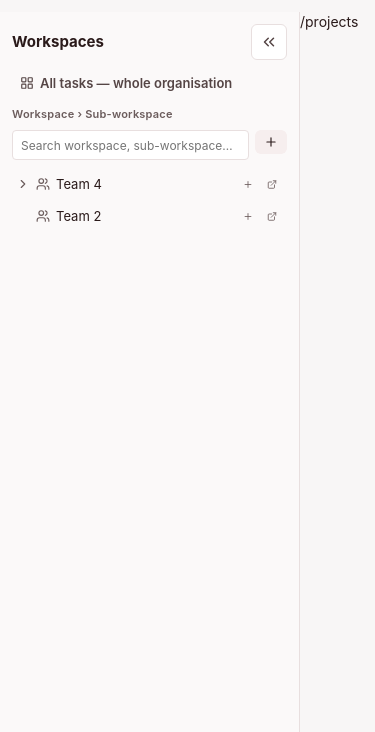
it: Projects tree: Workspace > Sub-workspace, each opening its tasks › the arrow only expands or collapses
Click the button named "Expand Team 4" at (23, 184), box [14,175,32,193]
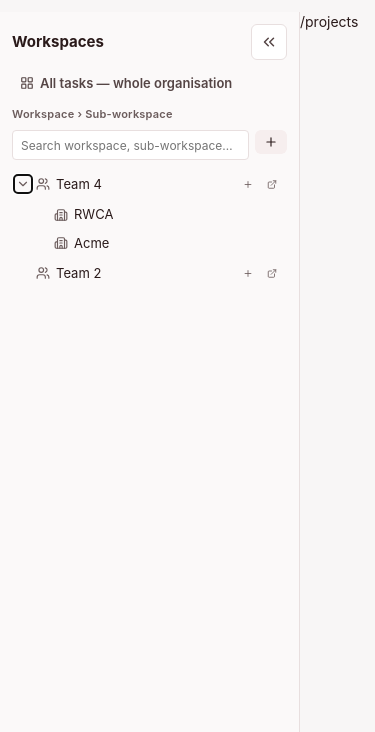
Check: the text with test id "where" reads "/projects", box [300,13,358,30]
Check: the text "RWCA" is shown, box [74,205,113,224]
Click the button named "Collapse Team 4" at (23, 184), box [14,175,32,193]
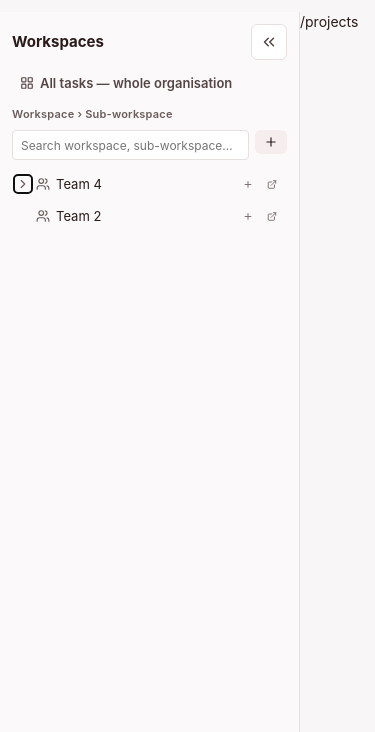
Check: the text "RWCA" is gone
